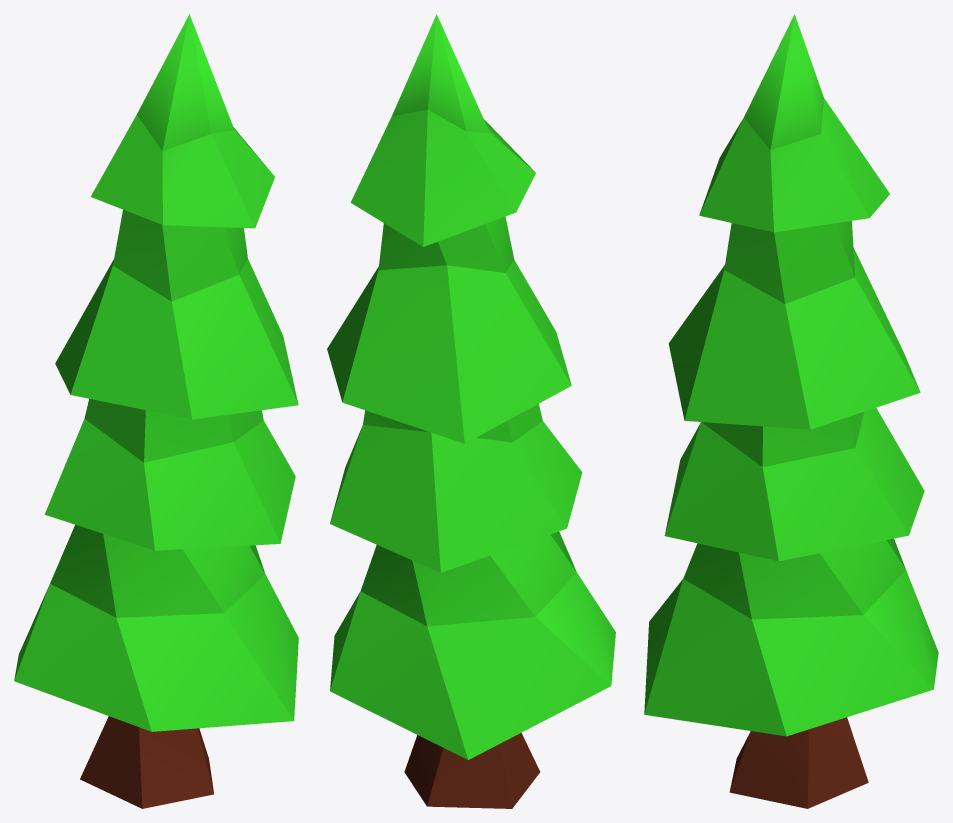
The model's file is PineTree.dae.
3 views of the same model, side by side, from view 1: azimuth 30°, elevation 25°; view 2: azimuth 150°, elevation 25°; view 3: azimuth 270°, elevation 25° (orthographic). The views are drawn at different scales.
Parts seen in each view (by area): view 1: SpruceTree3; view 2: SpruceTree3; view 3: SpruceTree3.
Boxes of the visible parts, <box> form: SpruceTree3: <box>14,14,298,808</box>; SpruceTree3: <box>327,14,615,808</box>; SpruceTree3: <box>644,14,938,808</box>.
Bounding box in the file's own units: 5.25 × 4.62 × 13.55.
